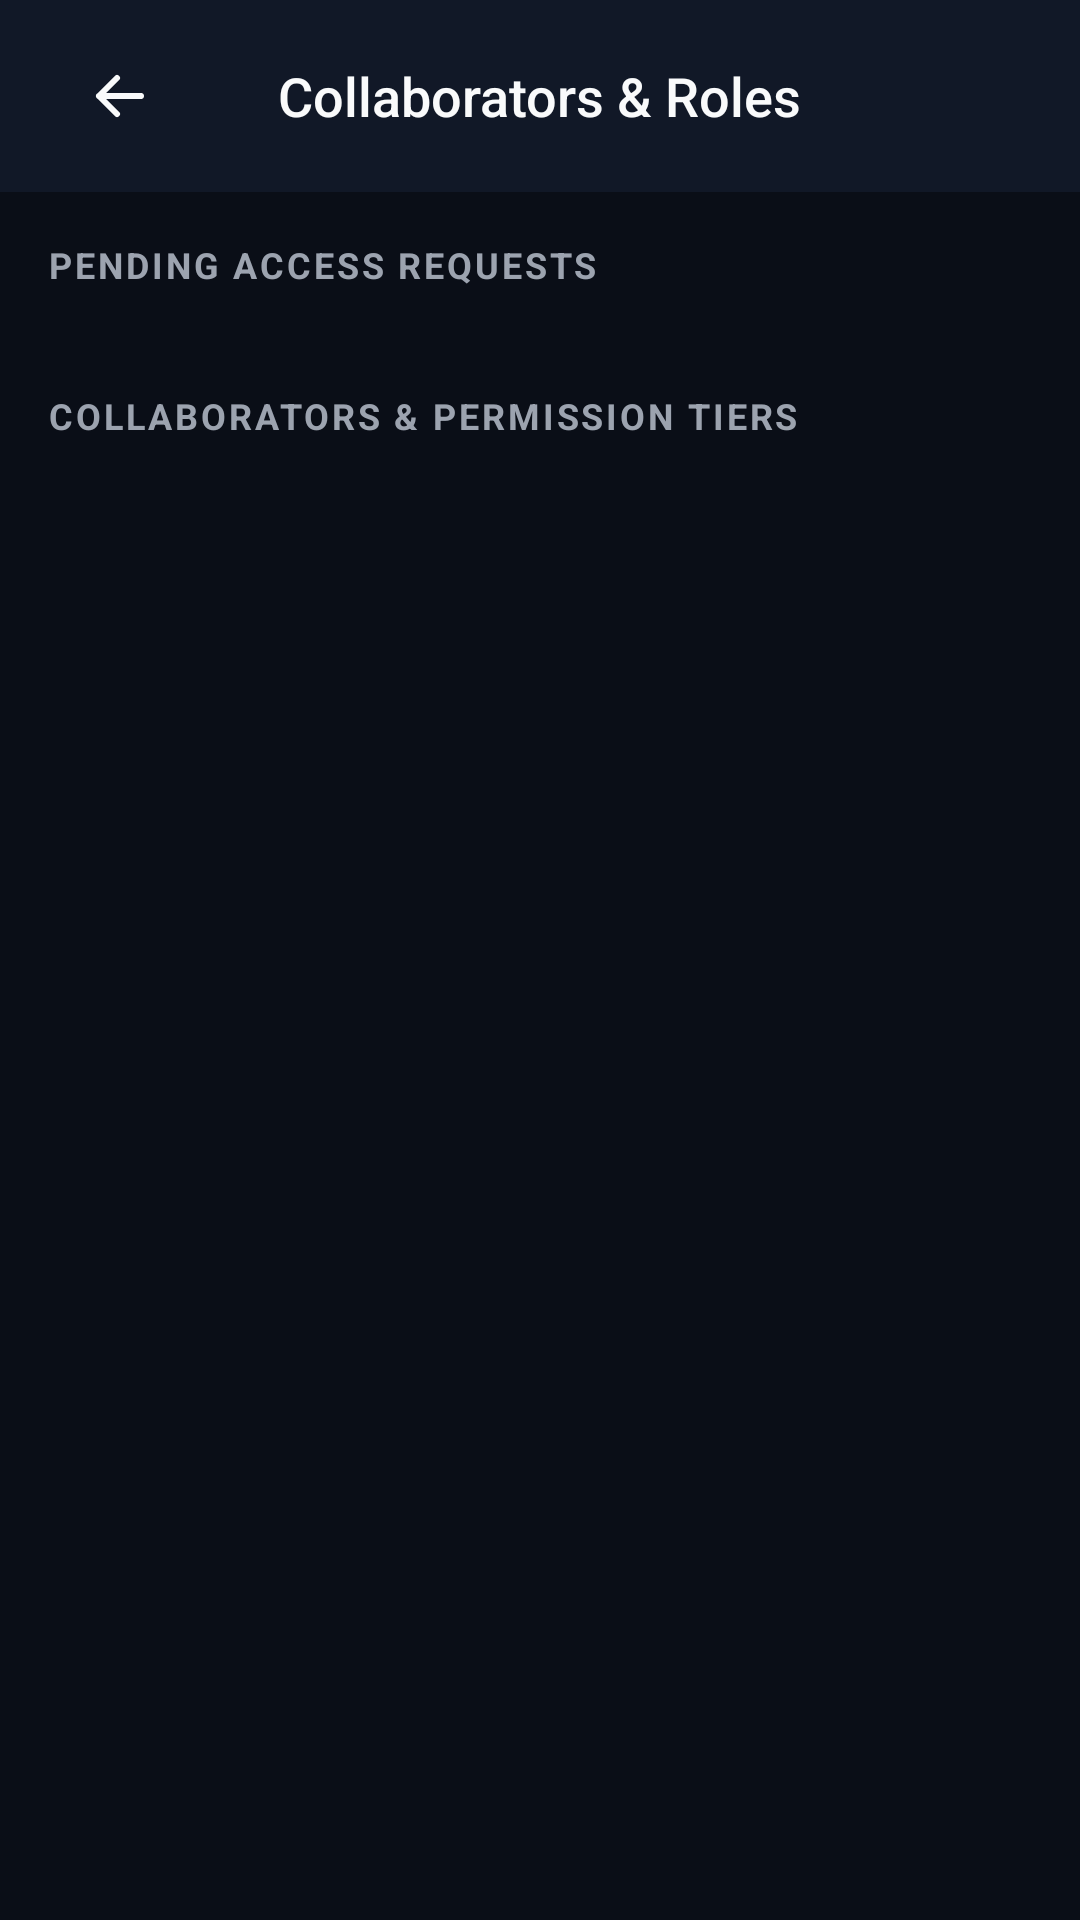

Screen size 1080px x 1920px. Icon name, then its center in pixels as (x,y):
Back: (120,96)
